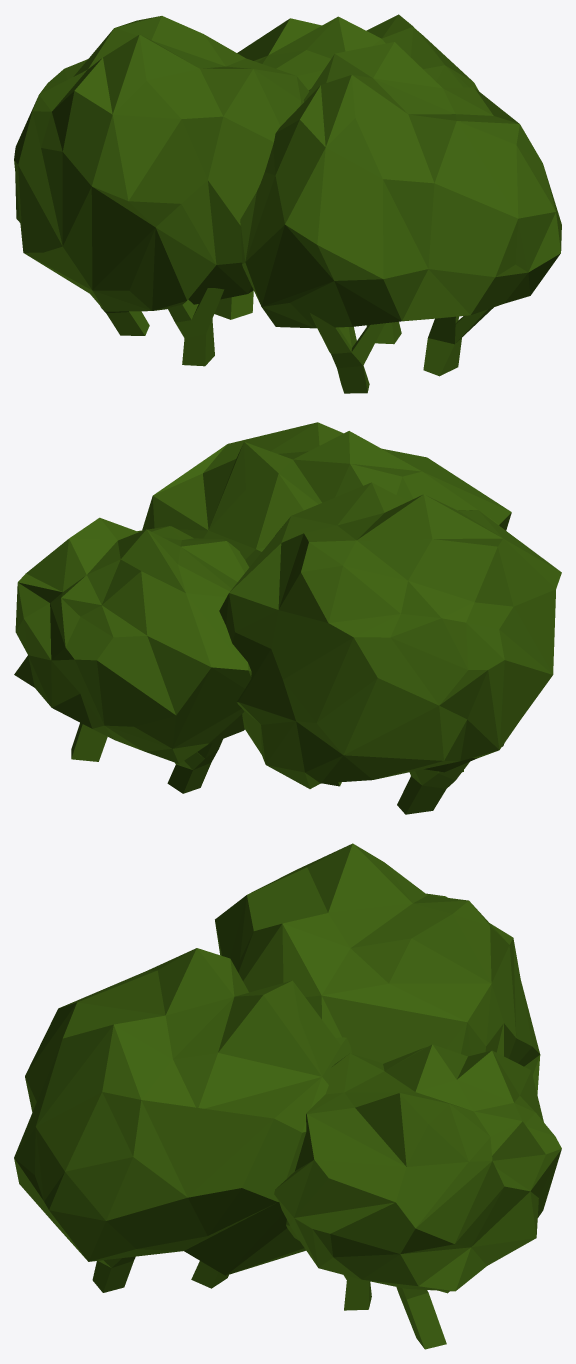
Rendered from bush_group_big.036_lev3.glb.
3 views of the same model, one above another, from view 1: azimuth 30°, elevation 25°; view 2: azimuth 150°, elevation 25°; view 3: azimuth 270°, elevation 25° (orthographic). The views are drawn at different scales.
Parts seen in each view (by area): view 1: bush_group_big.036_lev3; view 2: bush_group_big.036_lev3; view 3: bush_group_big.036_lev3.
Part boxes in pixels (x1,y1,x2,y2): bush_group_big.036_lev3: [14, 14, 561, 393]; bush_group_big.036_lev3: [14, 422, 561, 814]; bush_group_big.036_lev3: [14, 843, 561, 1349].
Size of the model in its own units: 1.12 by 0.6968 by 1.03.
